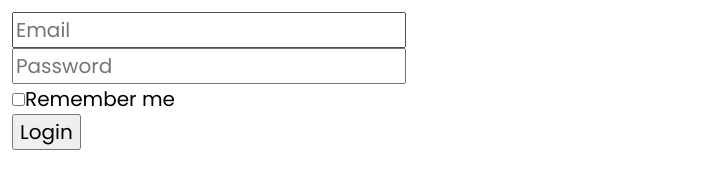
it: Matches DOM Snapshot › Does not allow invalid email format
Type "test" into the field with placeholder "Email" at point(209, 30), box [12,12,406,48]
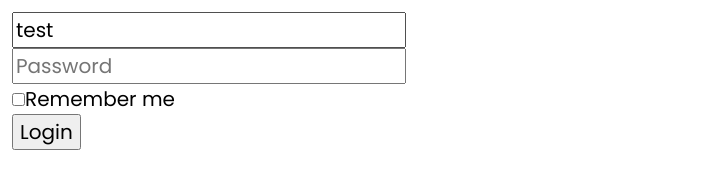
Click the button "Login" at point(46, 132), box [12,114,81,150]
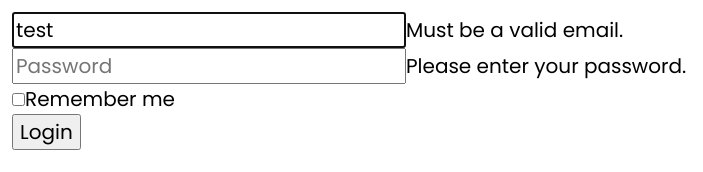
Expected: the text "Must be a valid email." is shown, [406,16,623,44]
